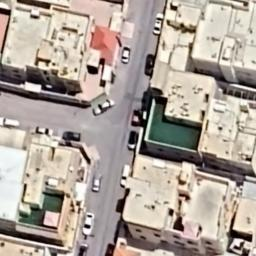sedan: (91, 98, 116, 117), (81, 212, 94, 236), (29, 126, 54, 138), (152, 12, 164, 36), (144, 52, 154, 78), (120, 44, 132, 64), (92, 171, 102, 193), (132, 108, 140, 128), (78, 242, 88, 256)
van: (0, 114, 22, 130), (119, 164, 132, 190), (62, 128, 82, 142), (126, 130, 138, 152)
